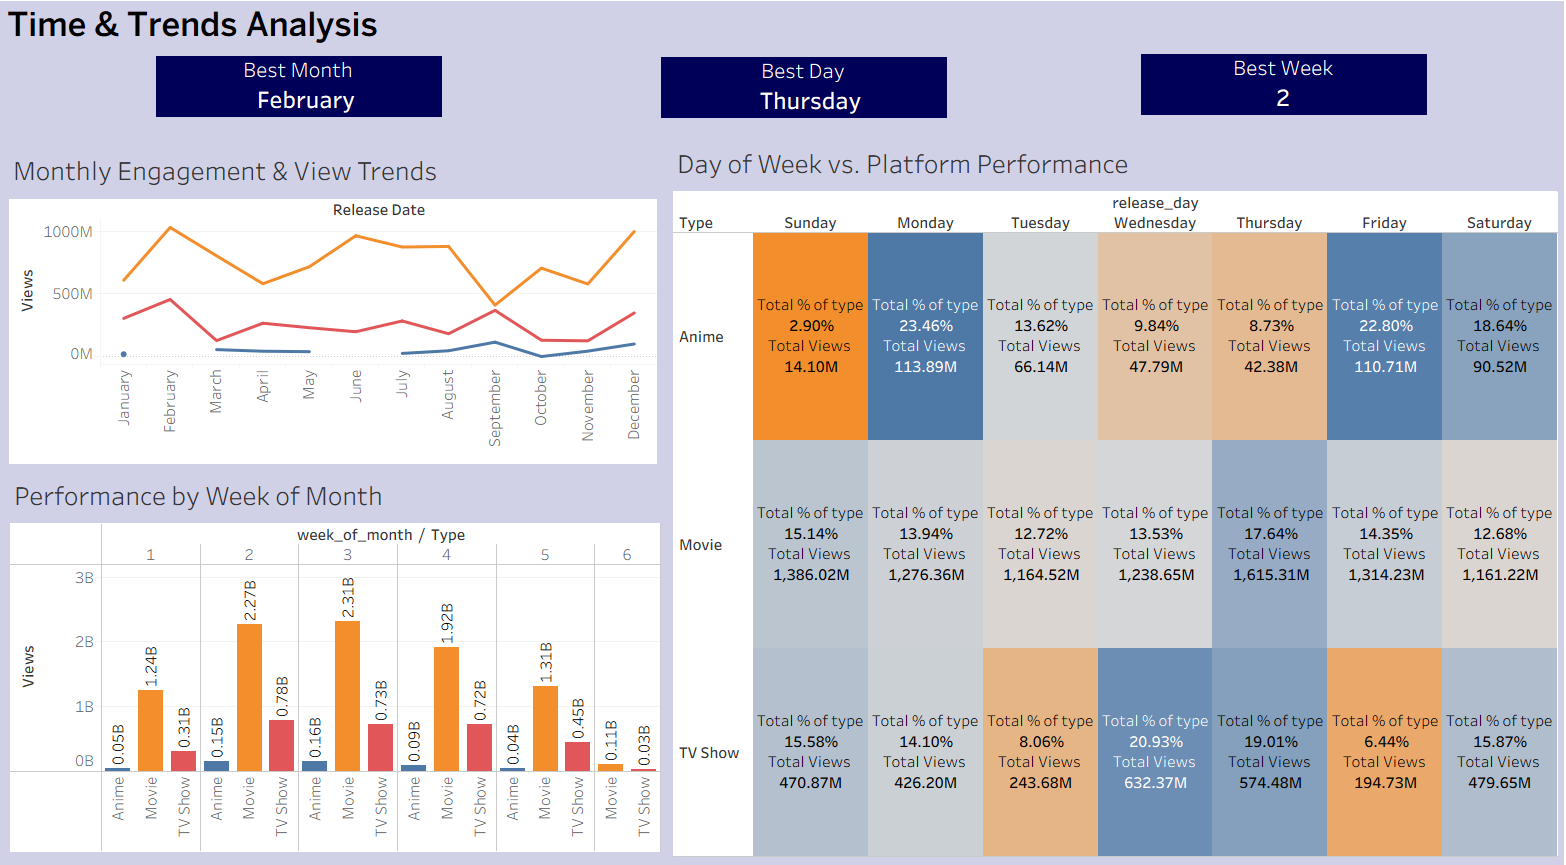

The page's visual inventory and layout, read from the dashboard file:
{"tool":"tableau","page":{"name":"Dashboard 4","canvas":[1000,1000],"units":"permille","ordinal":3},"visuals":[{"type":"title","box":[5.1,9.1,989.9,54.5]},{"type":"worksheet","title":"KPI1 D4 (3)","mark":"Automatic","box":[727.2,69.6,188,73.1]},{"type":"worksheet","title":"KPI1 D4","mark":"Automatic","box":[103.8,71.9,183.5,76.6]},{"type":"worksheet","title":"KPI1 D4 (2)","mark":"Automatic","box":[423.4,73.1,186.7,82.4]},{"type":"worksheet","title":"Ch3 D4","mark":"Square","rows":["type"],"cols":["Calculation_1571244049244162"],"box":[431,169.4,560.1,812.1]},{"type":"worksheet","title":"Ch1 D4","mark":"Line","rows":["views"],"cols":["release_date"],"box":[10.8,177.5,410.1,358.5]},{"type":"worksheet","title":"Ch5 D4","mark":"Automatic","rows":["views"],"cols":["Calculation_1571244049440771","type"],"box":[11.4,546.4,412,429.2]}]}

Visuals, with their boxes on the dashboard's canvas, which has no fixed pixel size, in thousandths of its width and height (x1, y1, x2, y2). These are canvas units, not pixel positions in the 1566x865 screenshot, which may show the page scaled, cropped or inside an application window:
title: x1=5 y1=9 x2=995 y2=64
"KPI1 D4 (3)" worksheet: x1=727 y1=70 x2=915 y2=143
"KPI1 D4" worksheet: x1=104 y1=72 x2=287 y2=148
"KPI1 D4 (2)" worksheet: x1=423 y1=73 x2=610 y2=156
"Ch3 D4" worksheet (Square marks): x1=431 y1=169 x2=991 y2=982
"Ch1 D4" worksheet (Line marks): x1=11 y1=178 x2=421 y2=536
"Ch5 D4" worksheet: x1=11 y1=546 x2=423 y2=976
